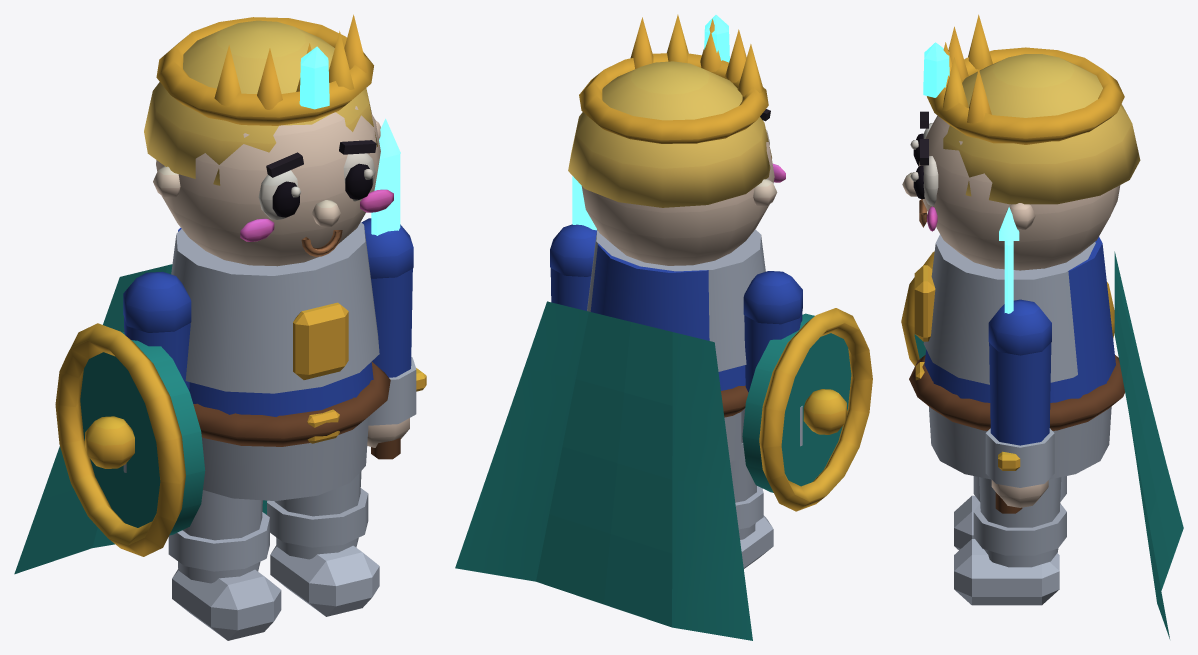
Rendered from hero_caspian.glb.
3 renders of one model, left to right at view 1: azimuth 30°, elevation 25°; view 2: azimuth 150°, elevation 25°; view 3: azimuth 270°, elevation 25°, orthographic. The views are drawn at different scales.
Visible parts, largest first — view 1: body_t0_palette, arml_t0_palette, legl_t0_palette, legr_t0_palette, armr_t0_palette, armr_t0_crystal_teal, body_t0_crystal; view 2: body_t0_palette, arml_t0_palette, armr_t0_palette, legl_t0_palette, body_t0_crystal, armr_t0_crystal_teal; view 3: body_t0_palette, armr_t0_palette, legr_t0_palette, arml_t0_palette, legl_t0_palette, body_t0_crystal, armr_t0_crystal_teal.
Part boxes in pixels (left/top/right/bottom): body_t0_palette: left=14, top=14, right=393, bottom=574; arml_t0_palette: left=55, top=271, right=205, bottom=556; legl_t0_palette: left=168, top=490, right=281, bottom=640; legr_t0_palette: left=267, top=471, right=379, bottom=616; armr_t0_palette: left=361, top=218, right=426, bottom=459; armr_t0_crystal_teal: left=371, top=118, right=400, bottom=235; body_t0_crystal: left=299, top=46, right=329, bottom=109; body_t0_palette: left=455, top=14, right=785, bottom=640; arml_t0_palette: left=741, top=271, right=872, bottom=511; armr_t0_palette: left=550, top=224, right=596, bottom=310; legl_t0_palette: left=730, top=443, right=773, bottom=568; body_t0_crystal: left=704, top=15, right=729, bottom=62; armr_t0_crystal_teal: left=572, top=176, right=596, bottom=230; body_t0_palette: left=902, top=14, right=1183, bottom=638; armr_t0_palette: left=985, top=299, right=1054, bottom=513; legr_t0_palette: left=954, top=477, right=1066, bottom=605; arml_t0_palette: left=901, top=251, right=1114, bottom=365; legl_t0_palette: left=954, top=476, right=1066, bottom=550; body_t0_crystal: left=923, top=42, right=949, bottom=97; armr_t0_crystal_teal: left=999, top=206, right=1019, bottom=313.
Bounding box in the file's own units: 0.3349 × 0.53 × 0.254.
